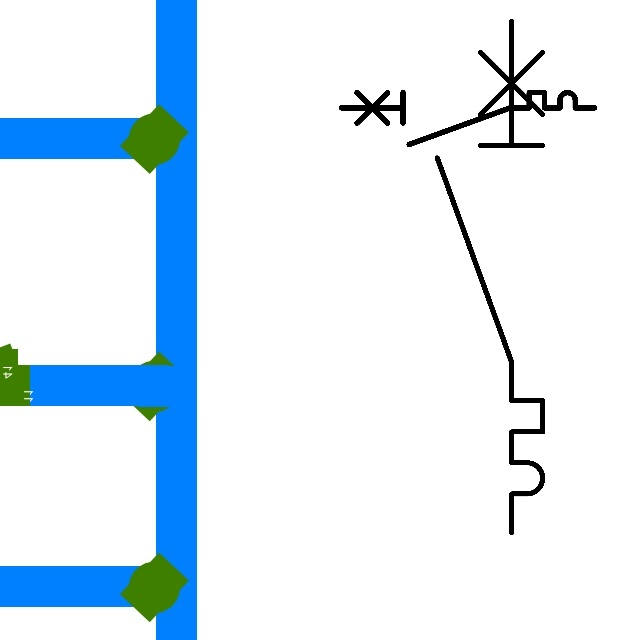interruptor_termomagnetico: (424, 8, 556, 546), (335, 86, 601, 151)
